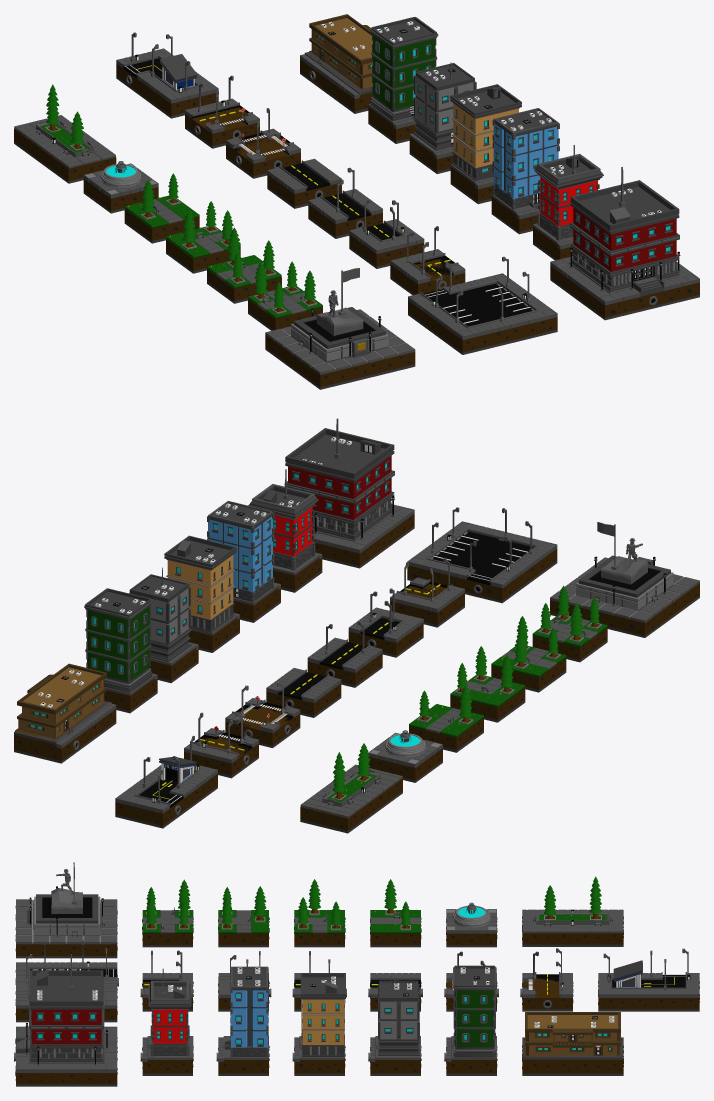
The model's file is uploads_files_3315421_Lowpoly+City.fbx.
3 renders of one model, top to bottom at view 1: azimuth 30°, elevation 25°; view 2: azimuth 150°, elevation 25°; view 3: azimuth 270°, elevation 25°, orthographic. The views are drawn at different scales.
Visible parts, largest first — view 1: Medium Building 1 Base, Statue Base, Medium Parking Base, Building 2 Base, Building 5 Base, Building 6 Base, Building 3 Base, Building 4 Base, Park Base, Underground Parking Base, Building 1 Base, Park Cross Path Base (+10 smaller); view 2: Medium Building 1 Base, Medium Parking Base, Statue Base, Building 6 Base, Building 5 Base, Building 3 Base, Building 2 Base, Park Base, Underground Parking Base, Building 1 Base, Building 4 Base, Park Cross Path Base (+10 smaller); view 3: Medium Building 1 Base, Statue Base, Building 6 Base, Building 5 Base, Building 3 Base, Building 2 Base, Underground Parking Base, Building 4 Base, Building 1 Base, Park Base, Medium Parking Base, Park Cross Path Base (+10 smaller).
Part boxes in pixels (x1,y1,x2,y2): Medium Building 1 Base: (550,167,699,320); Statue Base: (265,268,415,389); Medium Parking Base: (408,256,557,354); Building 2 Base: (491,108,559,234); Building 5 Base: (368,17,438,143); Building 6 Base: (300,14,372,113); Building 3 Base: (450,84,521,204); Building 4 Base: (409,62,476,173); Park Base: (14,84,116,183); Underground Parking Base: (116,32,218,118); Building 1 Base: (533,145,603,260); Park Cross Path Base: (248,261,322,330); Medium Building 1 Base: (284,418,414,568); Medium Parking Base: (407,507,557,603); Statue Base: (550,522,699,637); Building 6 Base: (14,663,116,763); Building 5 Base: (84,588,157,713); Building 3 Base: (164,535,239,652); Building 2 Base: (207,501,280,622); Park Base: (300,743,402,833); Underground Parking Base: (115,735,217,828); Building 1 Base: (248,469,322,592); Building 4 Base: (129,567,198,683); Park Cross Path Base: (532,585,607,662); Medium Building 1 Base: (14,954,117,1086); Statue Base: (15,862,117,958); Building 6 Base: (522,1012,623,1075); Building 5 Base: (444,965,497,1075); Building 3 Base: (292,973,345,1075); Building 2 Base: (216,966,269,1075); Underground Parking Base: (598,948,699,1011); Building 4 Base: (368,976,421,1075); Building 1 Base: (140,968,193,1075); Park Base: (522,876,623,946); Medium Parking Base: (15,940,118,1022); Park Cross Path Base: (142,879,193,947).
Bounding box in the file's own units: 3204 × 965 × 5419.
